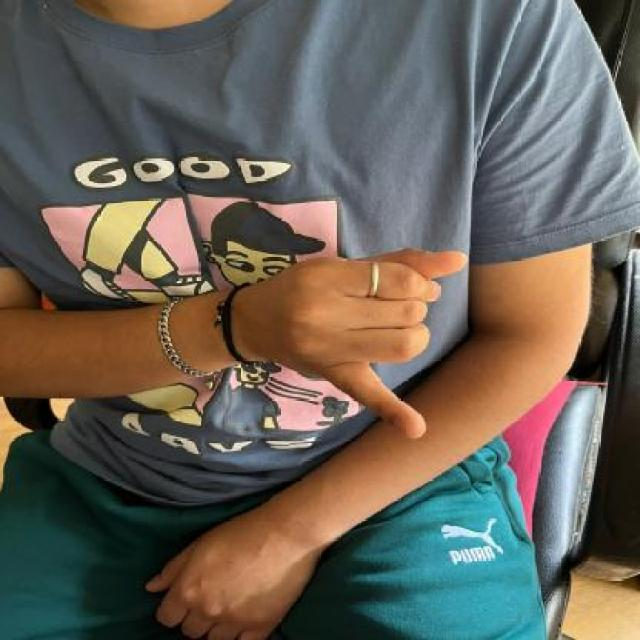Z: (236, 234, 478, 446)
